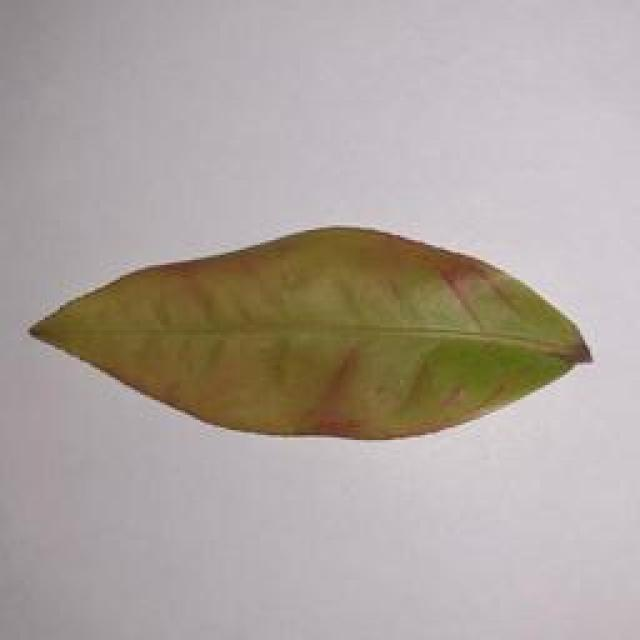Red Leaf Spot: (14, 212, 611, 451)
